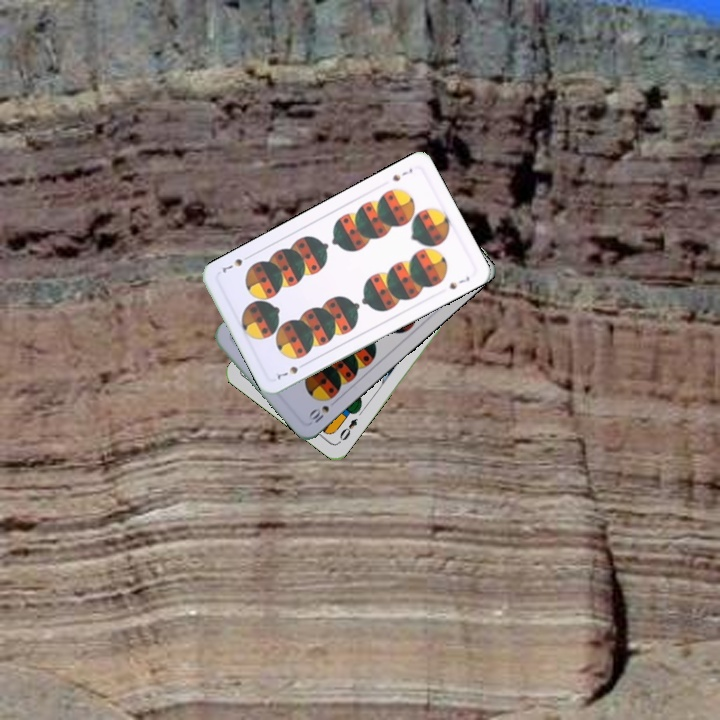EO: (335, 414, 360, 443)
S10: (304, 395, 340, 427)
S7: (273, 359, 309, 382), (388, 164, 415, 184)
